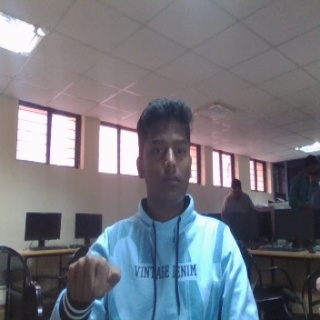Face: (134, 98, 195, 214)
Yes: (63, 252, 122, 313)
